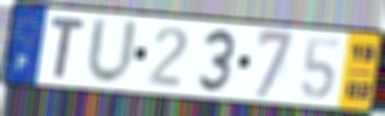2: (146, 25, 190, 89)
3: (195, 27, 238, 94)
5: (298, 35, 342, 101)
7: (254, 27, 297, 101)
T: (48, 14, 88, 81)
U: (84, 14, 141, 88)
